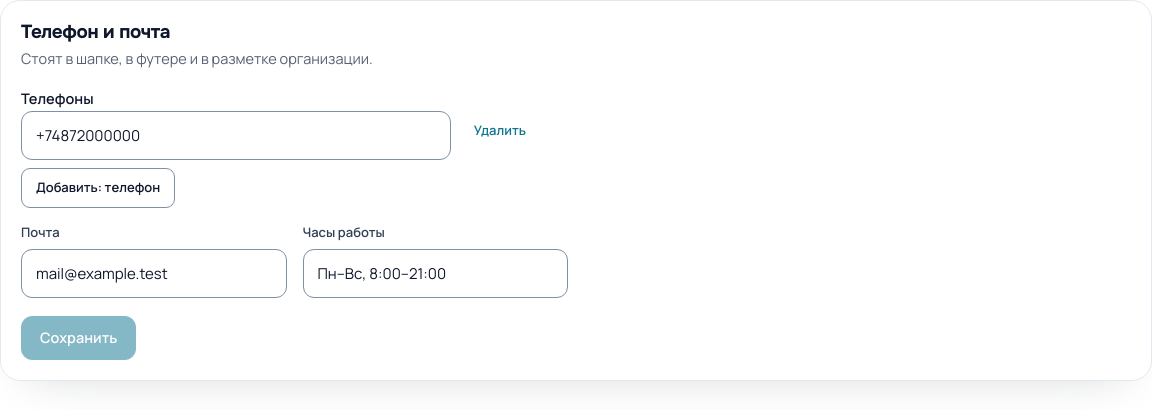
Test: Форма группы настроек › после сохранения сообщает, что изменения уже на сайте
In the field labelled "Почта": (154, 273) [21,249,286,298], type "x"
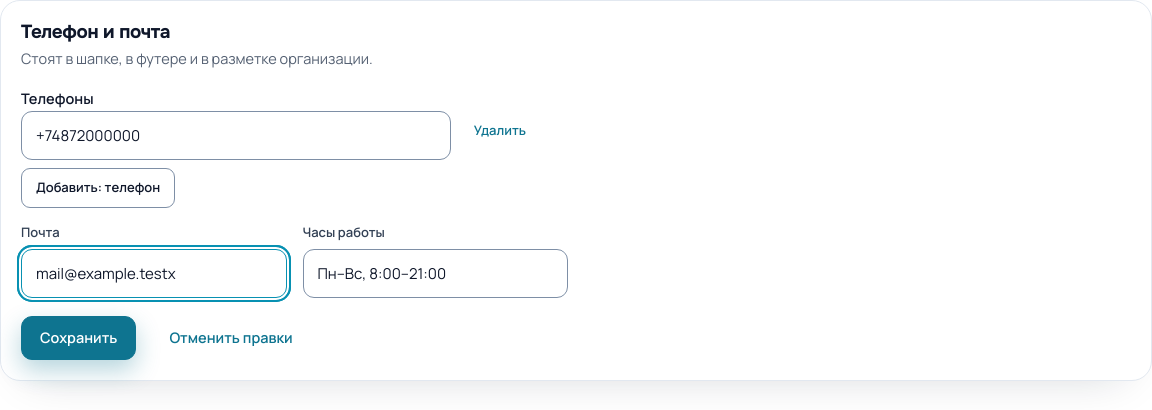
Click the button "Сохранить": (79, 338) [21,316,136,360]
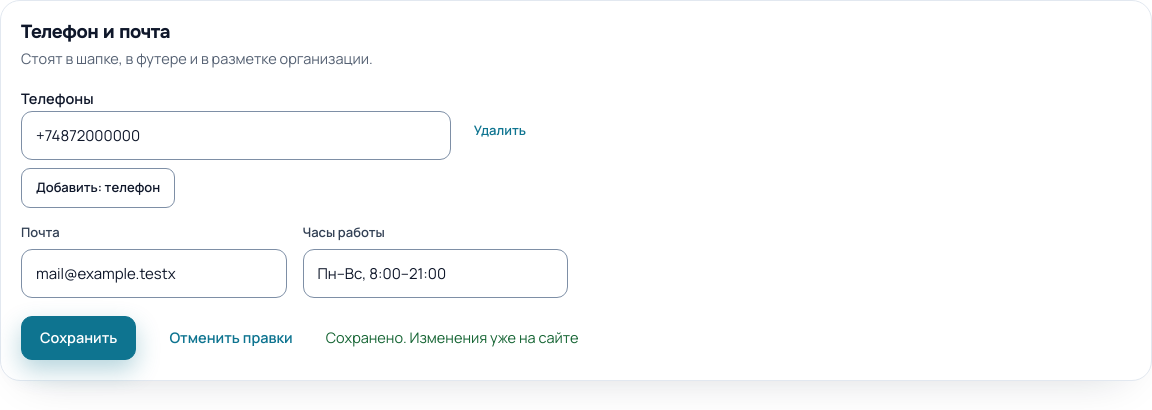
Expected: the message shows "Изменения уже на сайте", [410,328,579,346]
